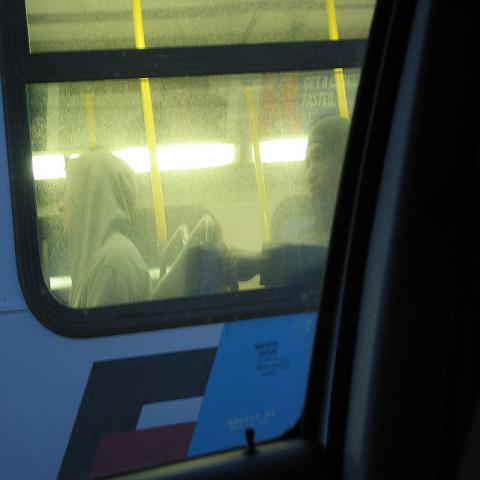bus: (2, 1, 376, 470)
